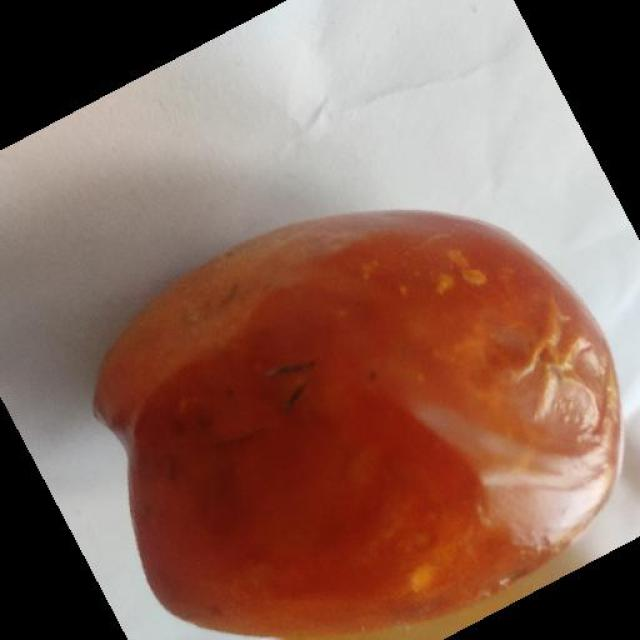Stale_tomato: (106, 229, 610, 638)
